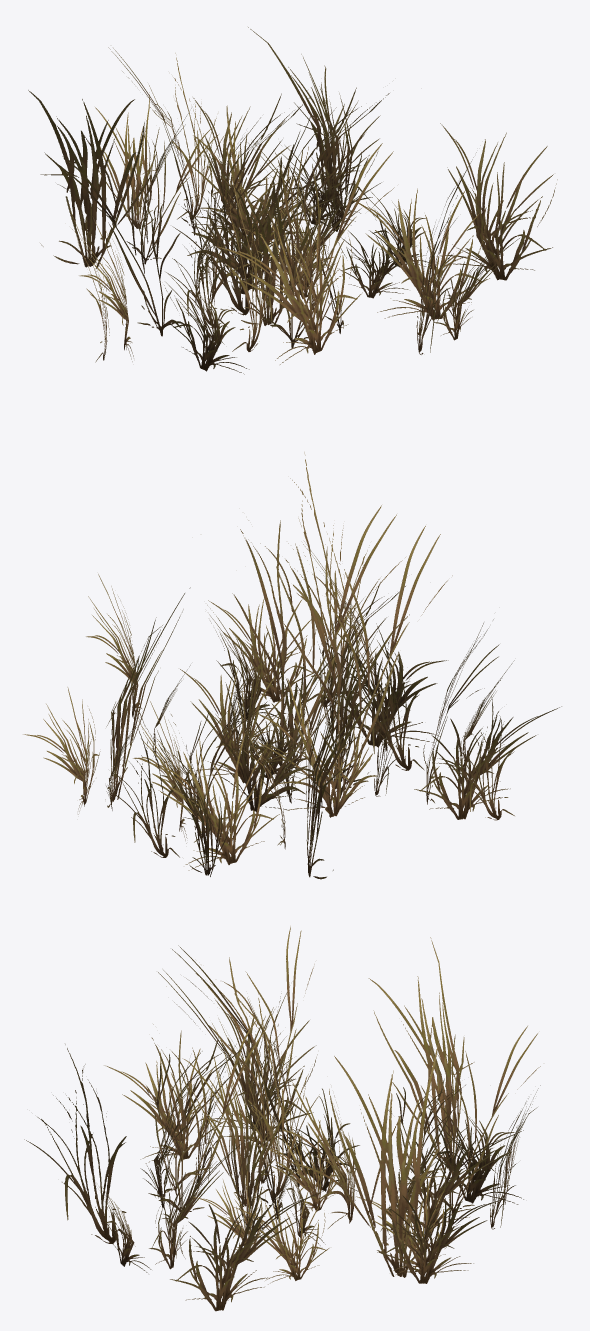
Rendered from grass_patch_0.glb.
3 views of the same model, one above another, from view 1: azimuth 30°, elevation 25°; view 2: azimuth 150°, elevation 25°; view 3: azimuth 270°, elevation 25° (orthographic). The views are drawn at different scales.
Visible parts, largest first — view 1: grasspatch1_grass1_0; view 2: grasspatch1_grass1_0; view 3: grasspatch1_grass1_0.
Boxes of the visible parts, <box> form: grasspatch1_grass1_0: <box>28,27,557,374</box>; grasspatch1_grass1_0: <box>23,452,561,879</box>; grasspatch1_grass1_0: <box>24,926,540,1311</box>.
Bounding box in the file's own units: 0.7845 × 0.42 × 0.7951.
1 material, 1 textured.
